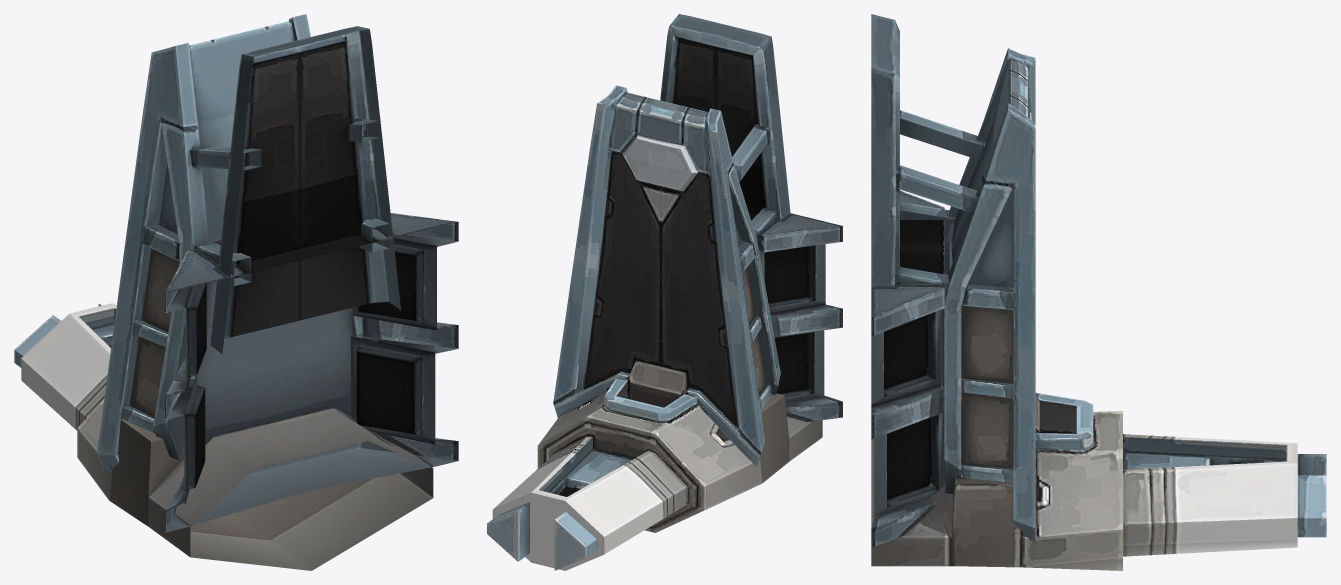
The model's file is Airfield_m4_real.fbx.
3 renders of one model, left to right at view 1: azimuth 30°, elevation 25°; view 2: azimuth 150°, elevation 25°; view 3: azimuth 270°, elevation 25°, orthographic. The views are drawn at different scales.
Parts seen in each view (by area): view 1: Airfield; view 2: Airfield; view 3: Airfield.
Boxes of the visible parts, bbox=[...] form: Airfield: bbox=[14, 14, 458, 570]; Airfield: bbox=[487, 14, 842, 570]; Airfield: bbox=[871, 14, 1326, 570].
Bounding box in the file's own units: 0.9509 × 1.32 × 1.64.
